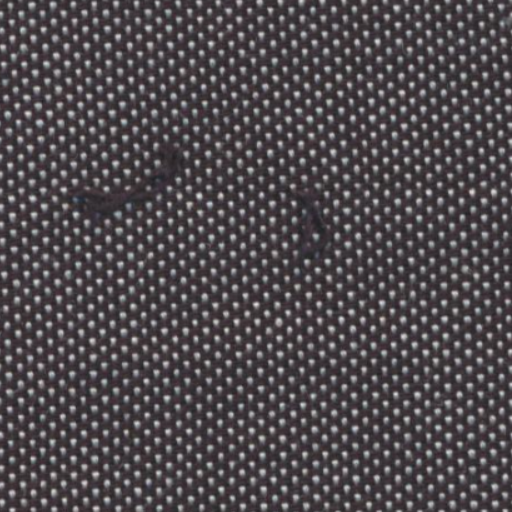DuanSha: (71, 122, 190, 234), (268, 156, 358, 274)
